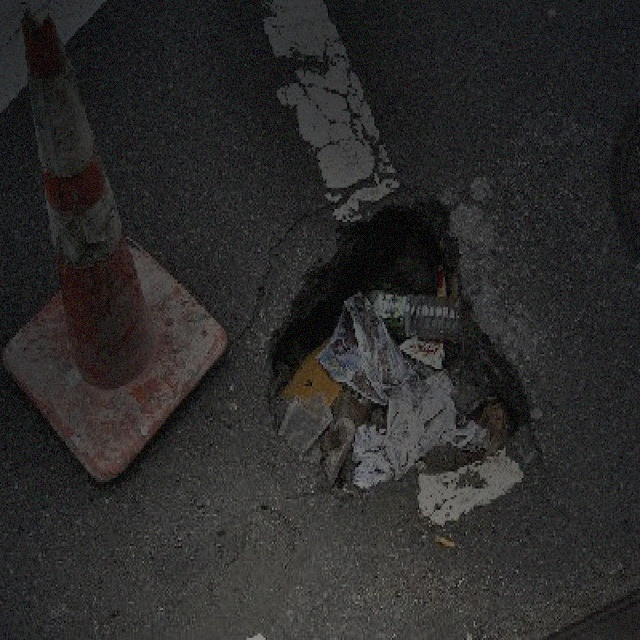pothole: (261, 192, 531, 497)
